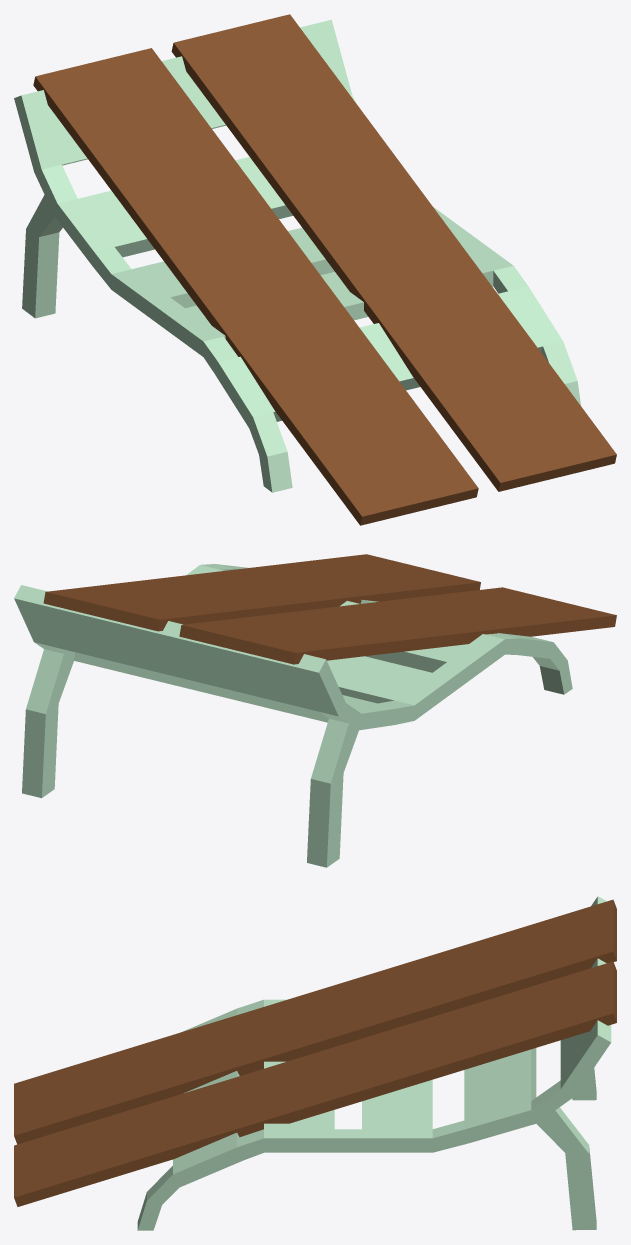
The model's file is lehatkoramp.fbx.
3 renders of one model, top to bottom at view 1: azimuth 30°, elevation 25°; view 2: azimuth 150°, elevation 25°; view 3: azimuth 270°, elevation 25°, orthographic. The views are drawn at different scales.
Parts seen in each view (by area): view 1: Cube.005; view 2: Cube.005; view 3: Cube.005.
Boxes of the visible parts, x1,y1,x2,y2 form: Cube.005: (14, 14, 616, 525); Cube.005: (14, 554, 616, 867); Cube.005: (14, 896, 616, 1230).
Bounding box in the file's own units: 227 × 154 × 416.
